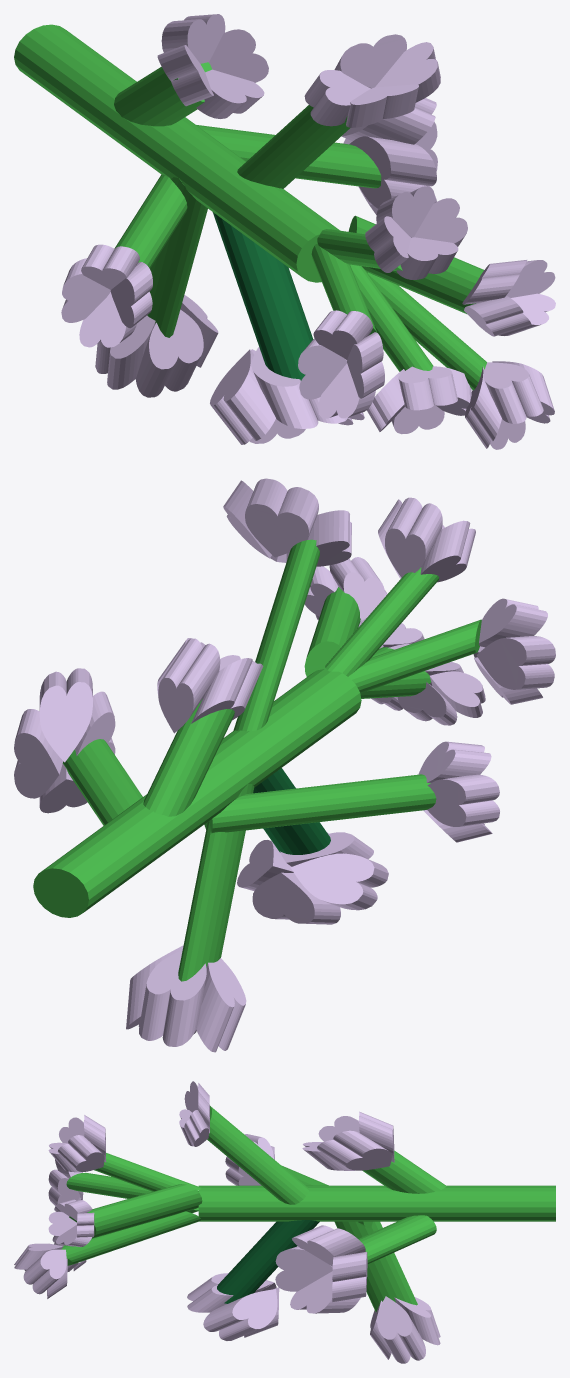
File: tinker.obj
3 views of the same model, one above another, from view 1: azimuth 30°, elevation 25°; view 2: azimuth 150°, elevation 25°; view 3: azimuth 270°, elevation 25° (orthographic). The views are drawn at different scales.
Parts seen in each view (by area): view 1: group_0_13877221, group_0_4634441, group_0_1206582; view 2: group_0_13877221, group_0_4634441, group_0_1206582; view 3: group_0_4634441, group_0_13877221, group_0_1206582.
Boxes of the visible parts, x1=… form: group_0_13877221: x1=61, y1=14, x2=555, y2=449; group_0_4634441: x1=14, y1=24, x2=486, y2=390; group_0_1206582: x1=212, y1=212, x2=313, y2=380; group_0_13877221: x1=14, y1=478, x2=555, y2=1052; group_0_4634441: x1=33, y1=539, x2=481, y2=981; group_0_1206582: x1=253, y1=768, x2=330, y2=854; group_0_4634441: x1=61, y1=1106, x2=555, y2=1311; group_0_13877221: x1=14, y1=1081, x2=440, y2=1363; group_0_1206582: x1=217, y1=1220, x2=319, y2=1303.
Bounding box in the file's own units: 82.99 × 82 × 141.
